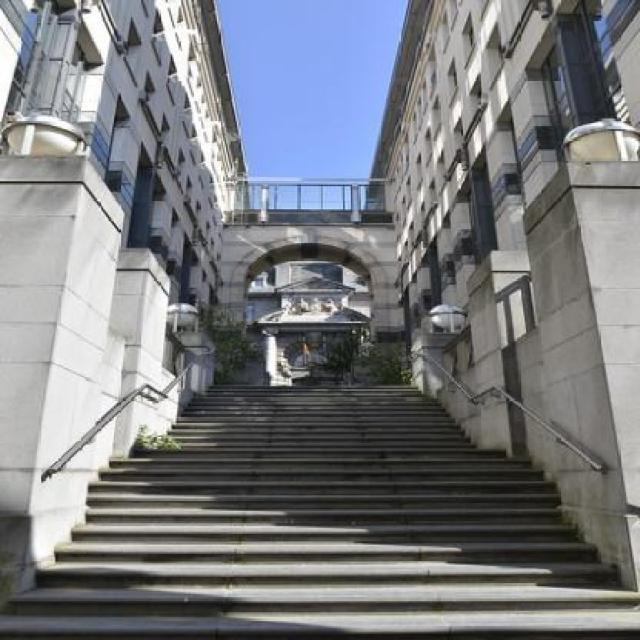stair: (15, 281, 518, 640)
